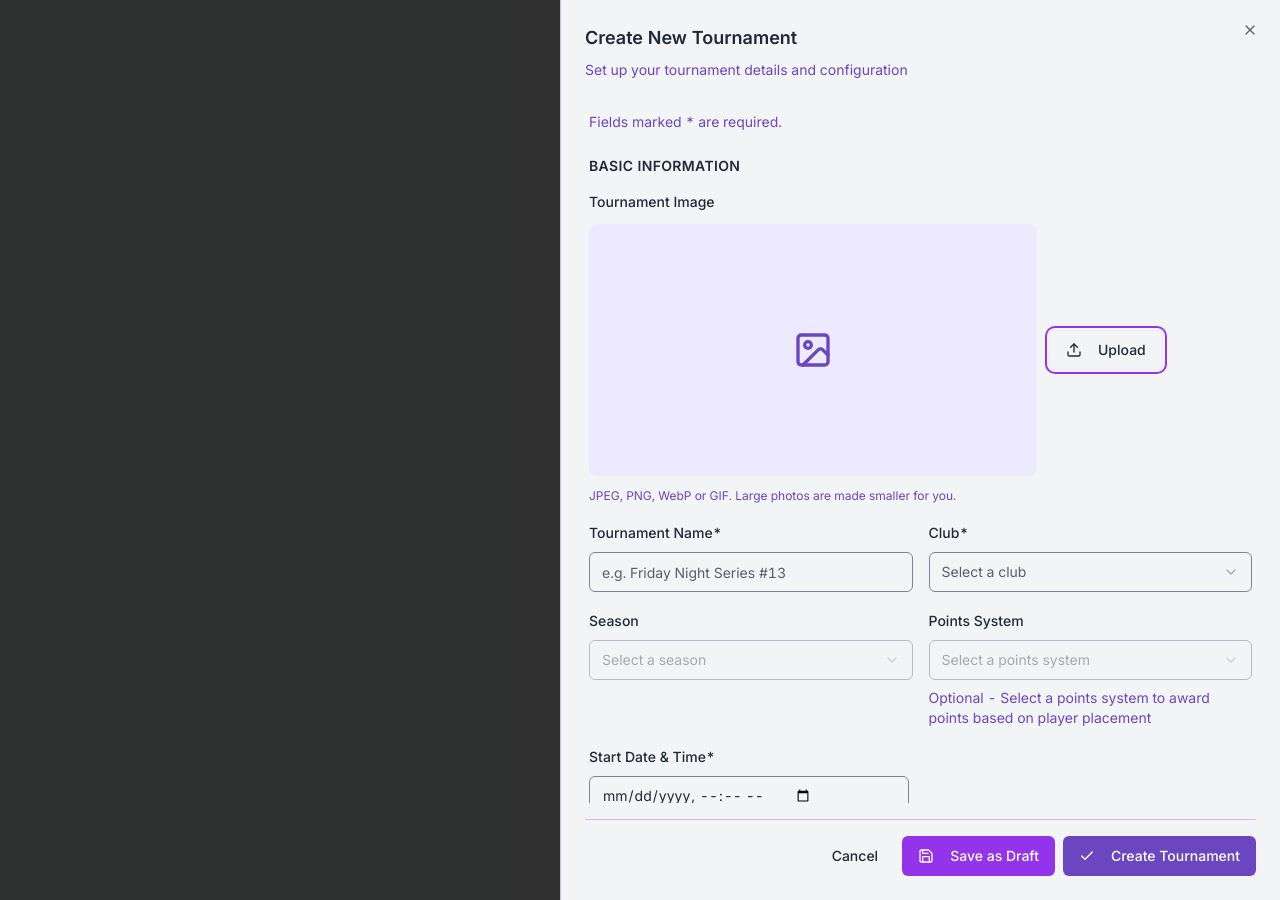
CreateTournamentDialog › names the missing fields and sends nothing
Check: the dialog "Create New Tournament" is shown, box top-left (560, 0), bottom-right (1279, 899)
Step 1. Click the button with test id "create-tournament-final" → (1159, 856), box top-left (1063, 836), bottom-right (1256, 876)
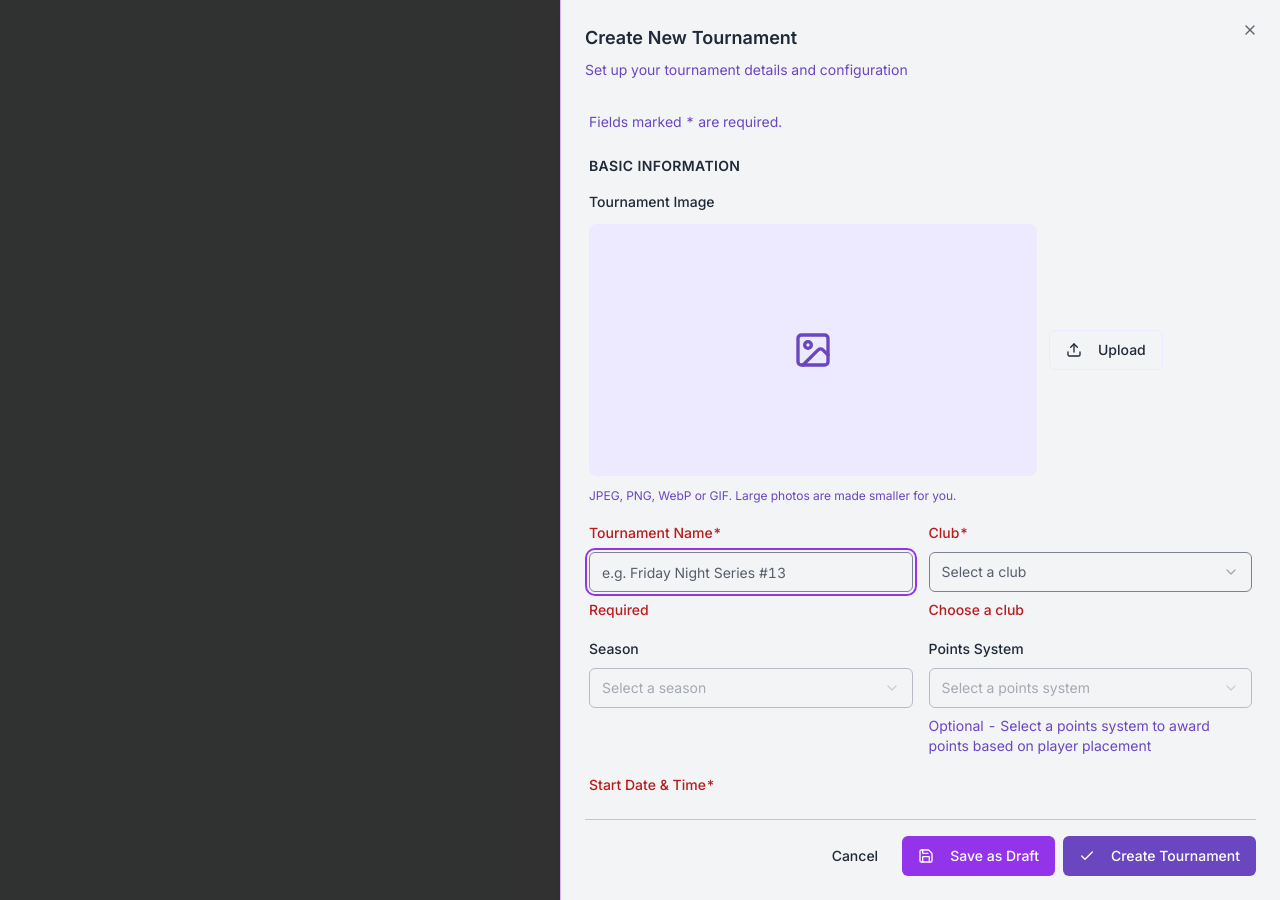
Check: the text "Choose a club" is shown, box top-left (928, 601), bottom-right (1024, 618)
